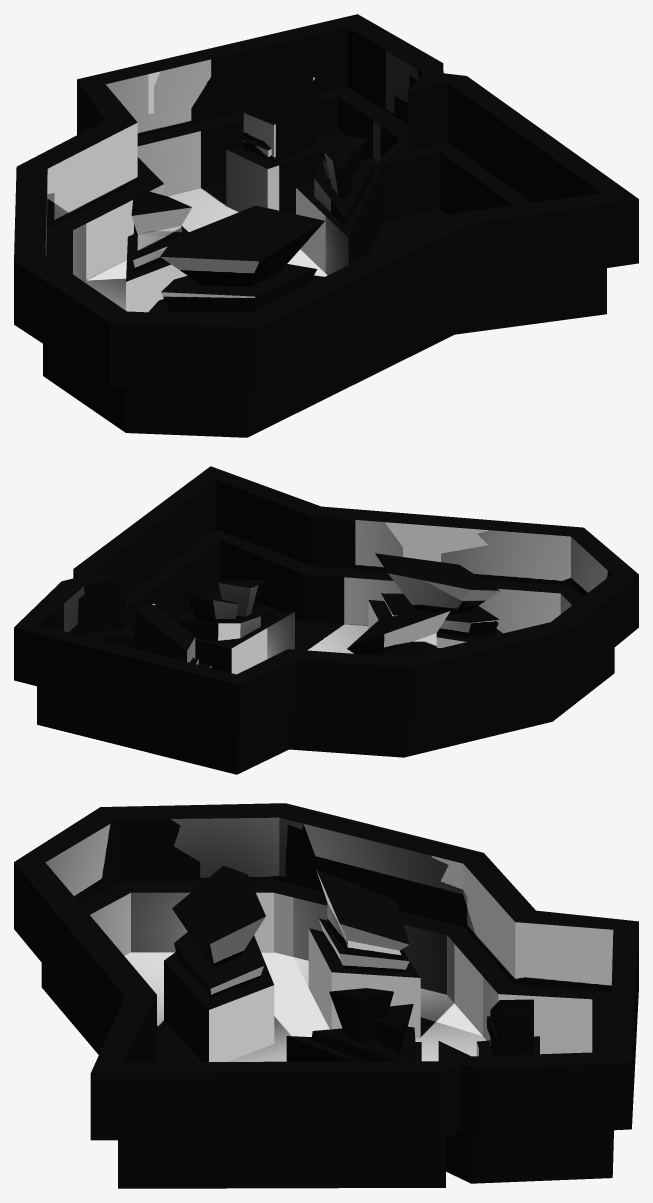
The model's file is level2_5.fbx.
The picture shows the model from 3 angles, top to bottom: view 1: azimuth 30°, elevation 25°; view 2: azimuth 150°, elevation 25°; view 3: azimuth 270°, elevation 25°; orthographic projection. The views are drawn at different scales.
Parts seen in each view (by area): view 1: 2-5_upper_wall, 2-5_lower_wall, 2-5_pillar_magenta_top, 2-5_pillar_red_top, 2-5_pillar_pink, 2-5_pillar_red, 2-5_floor, 2-5_pillar_pink_top, 2-5_pillar_aqua_top, 2-5_pillar_aqua; view 2: 2-5_upper_wall, 2-5_lower_wall, 2-5_pillar_magenta_top, 2-5_pillar_pink_top, 2-5_pillar_pink, 2-5_pillar_aqua_top, 2-5_pillar_red_top, 2-5_floor, 2-5_pillar_magenta; view 3: 2-5_upper_wall, 2-5_lower_wall, 2-5_floor, 2-5_pillar_magenta_top, 2-5_pillar_magenta, 2-5_pillar_aqua_top, 2-5_pillar_pink_top, 2-5_pillar_aqua, 2-5_pillar_red_top, 2-5_pillar_pink.
Part boxes in pixels (bbox=[...]): 2-5_upper_wall: bbox=[14, 14, 638, 391]; 2-5_lower_wall: bbox=[43, 87, 606, 437]; 2-5_pillar_magenta_top: bbox=[160, 205, 324, 311]; 2-5_pillar_red_top: bbox=[242, 63, 317, 161]; 2-5_pillar_pink: bbox=[296, 166, 383, 275]; 2-5_pillar_red: bbox=[226, 134, 325, 214]; 2-5_floor: bbox=[84, 182, 448, 310]; 2-5_pillar_pink_top: bbox=[314, 127, 375, 226]; 2-5_pillar_aqua_top: bbox=[131, 187, 191, 271]; 2-5_pillar_aqua: bbox=[126, 234, 187, 312]; 2-5_upper_wall: bbox=[14, 466, 638, 738]; 2-5_lower_wall: bbox=[37, 529, 614, 774]; 2-5_pillar_magenta_top: bbox=[375, 553, 500, 637]; 2-5_pillar_pink_top: bbox=[175, 579, 277, 642]; 2-5_pillar_pink: bbox=[195, 612, 294, 674]; 2-5_pillar_aqua_top: bbox=[347, 611, 450, 657]; 2-5_pillar_red_top: bbox=[134, 604, 198, 664]; 2-5_floor: bbox=[176, 588, 368, 653]; 2-5_pillar_magenta: bbox=[368, 600, 502, 647]; 2-5_upper_wall: bbox=[14, 803, 638, 1140]; 2-5_lower_wall: bbox=[41, 880, 613, 1188]; 2-5_floor: bbox=[124, 952, 486, 1061]; 2-5_pillar_magenta_top: bbox=[172, 865, 265, 997]; 2-5_pillar_magenta: bbox=[164, 935, 274, 1061]; 2-5_pillar_aqua_top: bbox=[316, 869, 409, 971]; 2-5_pillar_pink_top: bbox=[311, 988, 415, 1061]; 2-5_pillar_aqua: bbox=[308, 928, 420, 1037]; 2-5_pillar_red_top: bbox=[487, 999, 533, 1055]; 2-5_pillar_pink: bbox=[286, 1036, 421, 1061].
Bounding box in the file's own units: 20.09 × 4.81 × 19.64.
11 materials, 11 textured.
